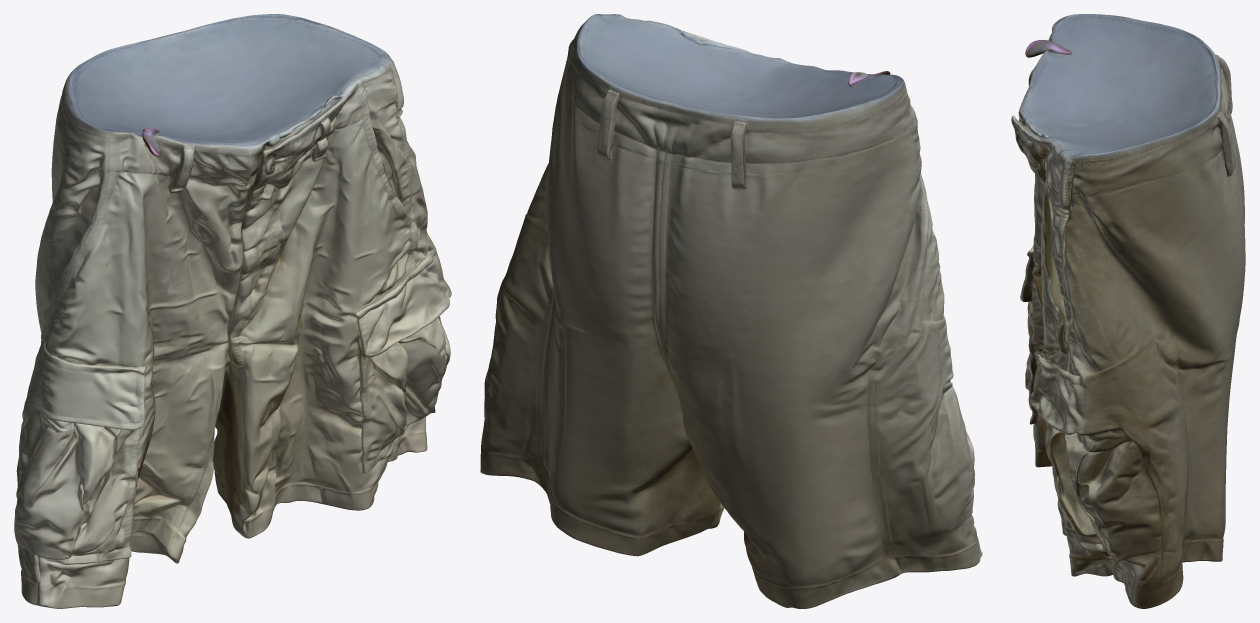
Rendered from summer_boy_bottom_02.glb.
The picture shows the model from 3 angles, left to right: view 1: azimuth 30°, elevation 25°; view 2: azimuth 150°, elevation 25°; view 3: azimuth 270°, elevation 25°; orthographic projection. The views are drawn at different scales.
Visible parts, largest first — view 1: tripo_node_d5c2db7e-7301-481f-8c27-eb8034c0973d; view 2: tripo_node_d5c2db7e-7301-481f-8c27-eb8034c0973d; view 3: tripo_node_d5c2db7e-7301-481f-8c27-eb8034c0973d.
Part boxes in pixels (x1,y1,x2,y2): tripo_node_d5c2db7e-7301-481f-8c27-eb8034c0973d: [14, 14, 451, 608]; tripo_node_d5c2db7e-7301-481f-8c27-eb8034c0973d: [480, 14, 982, 608]; tripo_node_d5c2db7e-7301-481f-8c27-eb8034c0973d: [1011, 14, 1245, 608].
Bounding box in the file's own units: 0.9455 × 1 × 0.4514.
Materials: 1 (1 with a texture image).
